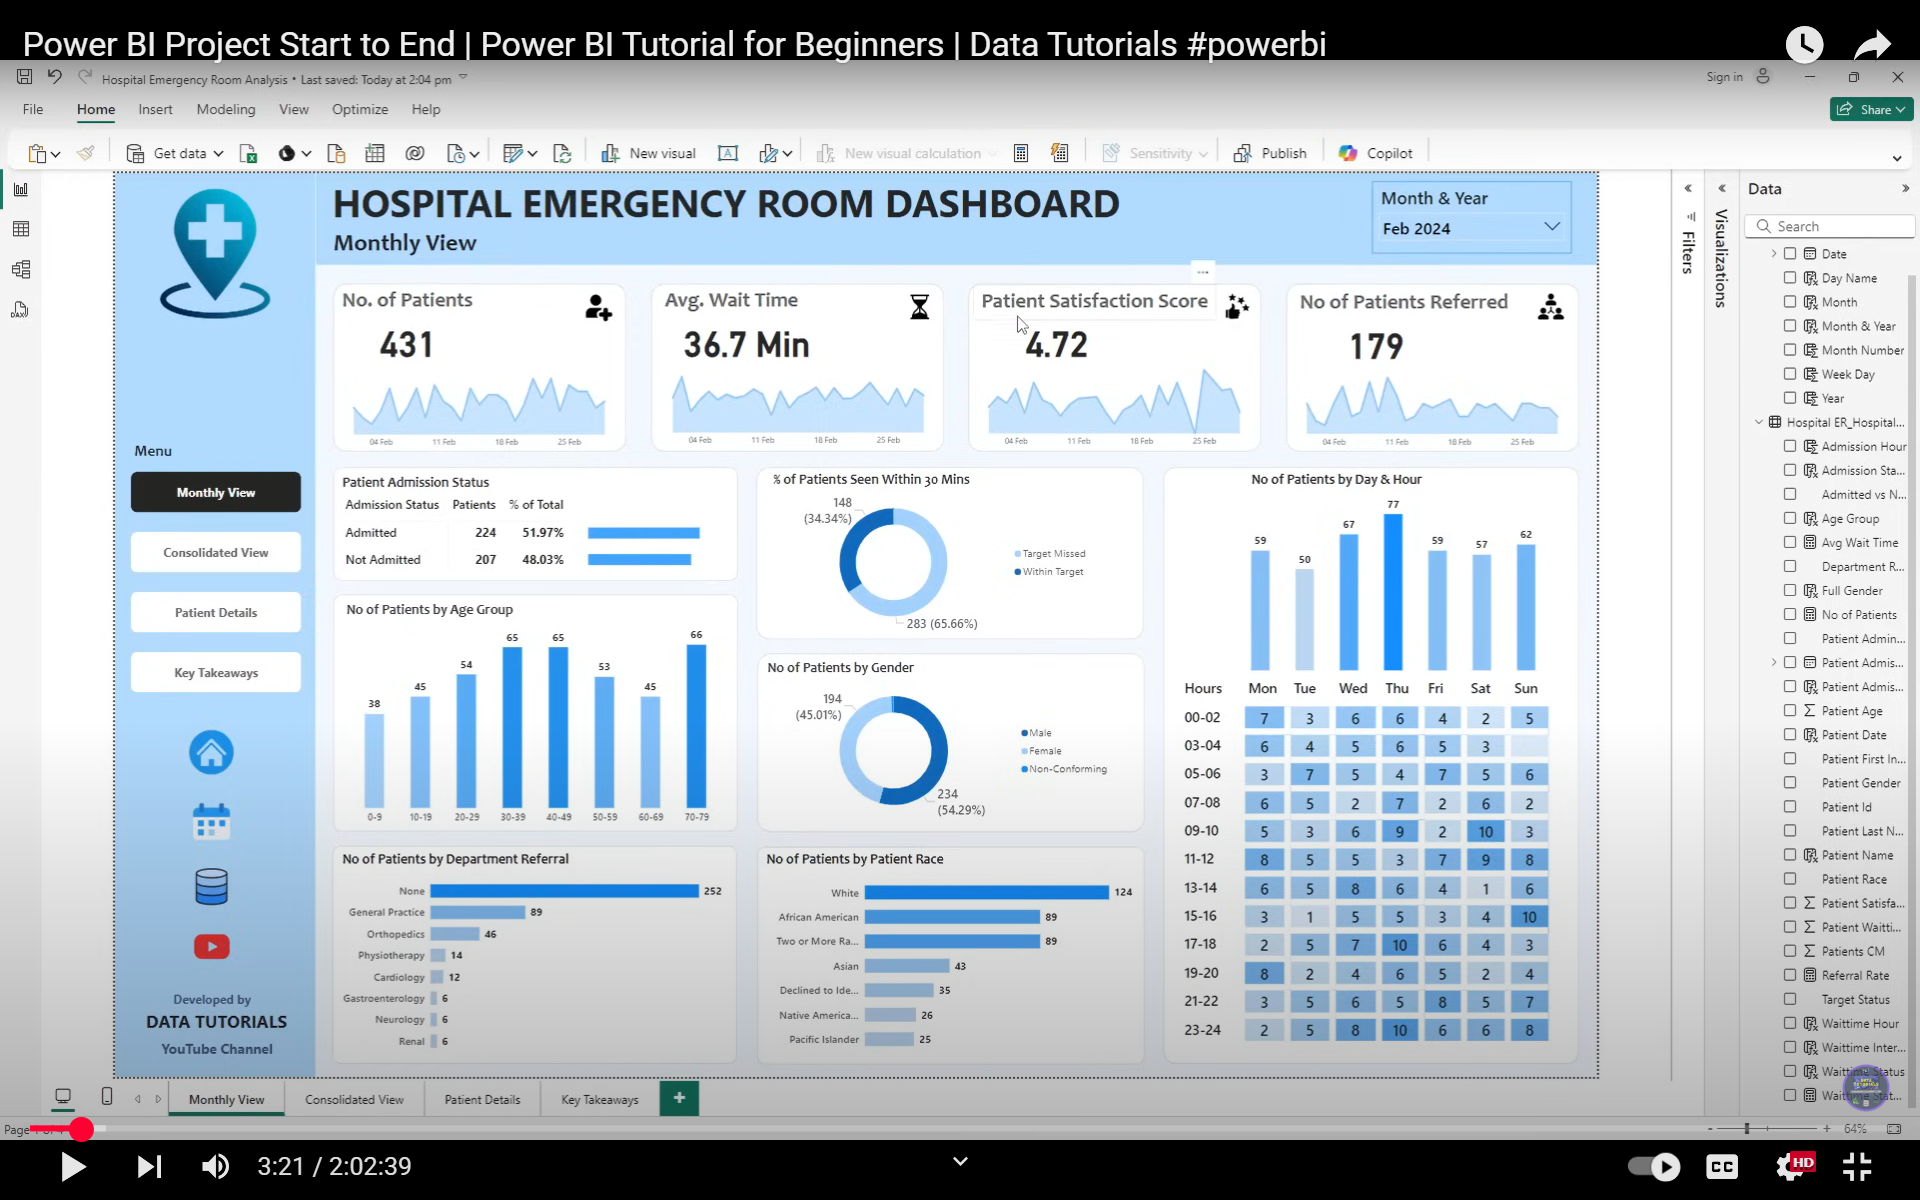

The dashboard page shown, as its layout file describes it:
{"tool":"powerbi","page":{"name":"monthly view","canvas":[2451,1400],"ordinal":0},"visuals":[{"type":"shape","box":[1934.3,158.7,506,259.6],"z":0},{"type":"shape","box":[355.7,165.2,516.4,257.5],"z":0,"group":"g4"},{"type":"shape","box":[1705,449.8,736,938.4],"z":0,"group":"g5"},{"type":"shape","box":[883.6,167.5,505,259.7],"z":1000,"group":"g3"},{"type":"group","id":"g1","title":"Group 5","box":[1719.6,485,710,867.8],"z":1000,"group":"g5"},{"type":"shape","box":[342.4,636.3,631.2,368],"z":1000},{"type":"card","fields":{"Values":["Hospital ER_Data.No of patients referred"]},"box":[1954.1,189.3,120.8,112.4],"z":2000},{"type":"card","fields":{"Values":["Hospital ER_Data.Avg wait Time"]},"box":[930.9,232.4,247.4,70.1],"z":3000,"group":"g3"},{"type":"clusteredColumnChart","fields":{"Category":["Hospital ER_Data.Age Group"],"Y":["Hospital ER_Data.No of patients"]},"box":[355.2,646.6,585.2,357.8],"z":3000},{"type":"areaChart","fields":{"Category":["Data Table.Date.Variation.Date Hierarchy.Day"],"Y":["Hospital ER_Data.No of patients referred"]},"box":[1936.6,279,491.8,132.6],"z":4000},{"type":"areaChart","fields":{"Category":["Data Table.Date.Variation.Date Hierarchy.Day"],"Y":["Avg(Hospital ER_Data.Patient Waittime)"]},"box":[897.4,300.1,480.7,116],"z":4000,"group":"g3"},{"type":"shape","box":[337.3,1019.7,631.2,368],"z":5000},{"type":"textbox","box":[1906.4,166.3,488.8,66.6],"z":6000},{"type":"textbox","box":[911.4,180.5,333.6,57.1],"z":6000,"group":"g3"},{"type":"card","fields":{"Values":["Hospital ER_Data.No of patients"]},"box":[374.8,212.7,181,81.3],"z":7000,"group":"g4"},{"type":"shape","box":[1080,446,600,270],"z":7000},{"type":"areaChart","fields":{"Category":["Data Table.Date.Variation.Date Hierarchy.Day"],"Y":["Hospital ER_Data.No of patients"]},"box":[363.2,288.6,500.3,135.4],"z":8000,"group":"g4"},{"type":"donutChart","title":"% of patients seen within 30 mints","fields":{"Y":["Hospital ER_Data.No of patients"],"Category":["Hospital ER_Data.waittimestatus"]},"box":[1097.4,463.2,565.8,236.8],"z":8000},{"type":"textbox","box":[369.5,169.4,323.6,59.3],"z":9000,"group":"g4"},{"type":"clusteredBarChart","fields":{"Category":["Hospital ER_Data.Department Referral"],"Y":["Hospital ER_Data.No of patients"]},"box":[342.2,1047.4,598.9,311.1],"z":9000},{"type":"shape","box":[1408.1,166.6,501,259.2],"z":10000,"group":"g2"},{"type":"shape","box":[327.1,444.7,741.1,173.8],"z":10000},{"type":"pivotTable","fields":{"Rows":["Hospital ER_Data.Waittime Interval"],"Columns":["Data Table.Day name"],"Values":["Hospital ER_Data.No of patients"]},"box":[1719.6,739.9,705.3,612.8],"z":10500,"group":"g1"},{"type":"columnChart","title":"No of patients by Day and Hour","fields":{"Category":["Data Table.Day name"],"Y":["Hospital ER_Data.No of patients"]},"box":[1733.4,485,696.2,251.4],"z":10750,"group":"g1"},{"type":"shape","box":[0,0,335,1399.8],"z":11000},{"type":"card","fields":{"Values":["Hospital ER_Data.satisfaction score"]},"box":[1448.2,219.8,208.5,83.8],"z":11000,"group":"g2"},{"type":"shape","box":[329.1,0,2103.7,139],"z":12000},{"type":"areaChart","fields":{"Category":["Data Table.Date.Variation.Date Hierarchy.Day"],"Y":["Hospital ER_Data.satisfaction score"]},"box":[1417.1,288.7,498,112.5],"z":12000,"group":"g2"},{"type":"slicer","fields":{"Values":["Data Table.year"]},"box":[1892.1,13.2,178.9,113.2],"z":13000},{"type":"slicer","fields":{"Values":["Data Table.month Name"]},"box":[2123.7,18.4,271.1,113.2],"z":14000},{"type":"textbox","box":[355.3,73.7,276.3,57.9],"z":15000},{"type":"textbox","box":[342.1,0,1031.6,63.2],"z":16000},{"type":"shape","box":[1072,730,604,290],"z":16000,"group":"g6"},{"type":"card","fields":{"Values":["Min(Data Table.month &year)"]},"box":[689.5,76.3,213.2,50],"z":17000},{"type":"donutChart","title":"No of patient by gender","fields":{"Y":["Hospital ER_Data.No of patients"],"Category":["Hospital ER_Data.Patient Gender"]},"box":[1105.7,780.9,565.2,237],"z":17000,"group":"g6"},{"type":"pivotTable","title":"Patient Admission Status","fields":{"Rows":["Hospital ER_Data.Admission status"],"Values":["Hospital ER_Data.No of patients","Hospital ER_Data.No of patients1"]},"box":[342.4,462.6,434.4,150.8],"z":18000},{"type":"barChart","fields":{"Category":["Hospital ER_Data.Admission status"],"Y":["Hospital ER_Data.No of patients"]},"box":[776.9,521.3,288.8,92],"z":19000},{"type":"shape","box":[1054,1048,628,338],"z":20000},{"type":"clusteredBarChart","fields":{"Y":["Hospital ER_Data.No of patients"],"Category":["Hospital ER_Data.Patient Race"]},"box":[1093.5,1047.8,567.4,339.1],"z":21000},{"type":"group","id":"g2","title":"Group 2","box":[1376.6,166.6,538.5,259.2],"z":22000},{"type":"group","id":"g3","title":"Group 3","box":[883.6,167.5,505,259.7],"z":23000},{"type":"group","id":"g4","title":"Group 4","box":[355.7,165.2,516.4,258.8],"z":24000},{"type":"image","box":[789.5,169.8,71.1,59.7],"z":25000},{"type":"textbox","box":[1376.6,171.2,502.6,55.1],"z":25000,"group":"g2"},{"type":"image","box":[1315,176.7,64.3,59.7],"z":26000},{"type":"image","box":[1824.5,172.1,78,59.7],"z":27000},{"type":"image","box":[2359.2,169.8,75.7,59.7],"z":28000},{"type":"image","box":[32.1,13.8,273.1,387.8],"z":29000},{"type":"pageNavigator","box":[6.1,437.5,323,527.5],"z":30000},{"type":"group","id":"g5","title":"Group 6","box":[1705,449.8,736,938.4],"z":31000},{"type":"group","id":"g6","title":"Group 7","box":[1072,730,604,290],"z":32000}]}

Visuals, with their boxes on the page's 2451x1400 design canvas (x1, y1, x2, y2). These are canvas units, not pixel positions in the 1920x1200 screenshot, which may show the page scaled, cropped or inside an application window:
shape: {"x1": 1934, "y1": 159, "x2": 2440, "y2": 418}
shape: {"x1": 356, "y1": 165, "x2": 872, "y2": 423}
shape: {"x1": 1705, "y1": 450, "x2": 2441, "y2": 1388}
shape: {"x1": 884, "y1": 168, "x2": 1389, "y2": 427}
"Group 5" group: {"x1": 1720, "y1": 485, "x2": 2430, "y2": 1353}
shape: {"x1": 342, "y1": 636, "x2": 974, "y2": 1004}
card - Hospital ER_Data.No of patients referred: {"x1": 1954, "y1": 189, "x2": 2075, "y2": 302}
card - Hospital ER_Data.Avg wait Time: {"x1": 931, "y1": 232, "x2": 1178, "y2": 302}
clusteredColumnChart - Hospital ER_Data.Age Group x Hospital ER_Data.No of patients: {"x1": 355, "y1": 647, "x2": 940, "y2": 1004}
areaChart - Data Table.Date.Variation.Date Hierarchy.Day x Hospital ER_Data.No of patients referred: {"x1": 1937, "y1": 279, "x2": 2428, "y2": 412}
areaChart - Data Table.Date.Variation.Date Hierarchy.Day x Avg(Hospital ER_Data.Patient Waittime): {"x1": 897, "y1": 300, "x2": 1378, "y2": 416}
shape: {"x1": 337, "y1": 1020, "x2": 968, "y2": 1388}
textbox: {"x1": 1906, "y1": 166, "x2": 2395, "y2": 233}
textbox: {"x1": 911, "y1": 180, "x2": 1245, "y2": 238}
card - Hospital ER_Data.No of patients: {"x1": 375, "y1": 213, "x2": 556, "y2": 294}
shape: {"x1": 1080, "y1": 446, "x2": 1680, "y2": 716}
areaChart - Data Table.Date.Variation.Date Hierarchy.Day x Hospital ER_Data.No of patients: {"x1": 363, "y1": 289, "x2": 864, "y2": 424}
"% of patients seen within 30 mints" donutChart: {"x1": 1097, "y1": 463, "x2": 1663, "y2": 700}
textbox: {"x1": 370, "y1": 169, "x2": 693, "y2": 229}
clusteredBarChart - Hospital ER_Data.Department Referral x Hospital ER_Data.No of patients: {"x1": 342, "y1": 1047, "x2": 941, "y2": 1358}
shape: {"x1": 1408, "y1": 167, "x2": 1909, "y2": 426}
shape: {"x1": 327, "y1": 445, "x2": 1068, "y2": 618}
pivotTable - Hospital ER_Data.Waittime Interval x Data Table.Day name: {"x1": 1720, "y1": 740, "x2": 2425, "y2": 1353}
"No of patients by Day and Hour" columnChart: {"x1": 1733, "y1": 485, "x2": 2430, "y2": 736}
shape: {"x1": 0, "y1": 0, "x2": 335, "y2": 1400}
card - Hospital ER_Data.satisfaction score: {"x1": 1448, "y1": 220, "x2": 1657, "y2": 304}
shape: {"x1": 329, "y1": 0, "x2": 2433, "y2": 139}
areaChart - Data Table.Date.Variation.Date Hierarchy.Day x Hospital ER_Data.satisfaction score: {"x1": 1417, "y1": 289, "x2": 1915, "y2": 401}
slicer - Data Table.year: {"x1": 1892, "y1": 13, "x2": 2071, "y2": 126}
slicer - Data Table.month Name: {"x1": 2124, "y1": 18, "x2": 2395, "y2": 132}
textbox: {"x1": 355, "y1": 74, "x2": 632, "y2": 132}
textbox: {"x1": 342, "y1": 0, "x2": 1374, "y2": 63}
shape: {"x1": 1072, "y1": 730, "x2": 1676, "y2": 1020}
card - Min(Data Table.month &year): {"x1": 690, "y1": 76, "x2": 903, "y2": 126}
"No of patient by gender" donutChart: {"x1": 1106, "y1": 781, "x2": 1671, "y2": 1018}
"Patient Admission Status" pivotTable: {"x1": 342, "y1": 463, "x2": 777, "y2": 613}
barChart - Hospital ER_Data.Admission status x Hospital ER_Data.No of patients: {"x1": 777, "y1": 521, "x2": 1066, "y2": 613}
shape: {"x1": 1054, "y1": 1048, "x2": 1682, "y2": 1386}
clusteredBarChart - Hospital ER_Data.No of patients x Hospital ER_Data.Patient Race: {"x1": 1094, "y1": 1048, "x2": 1661, "y2": 1387}
"Group 2" group: {"x1": 1377, "y1": 167, "x2": 1915, "y2": 426}
"Group 3" group: {"x1": 884, "y1": 168, "x2": 1389, "y2": 427}
"Group 4" group: {"x1": 356, "y1": 165, "x2": 872, "y2": 424}
image: {"x1": 790, "y1": 170, "x2": 861, "y2": 230}
textbox: {"x1": 1377, "y1": 171, "x2": 1879, "y2": 226}
image: {"x1": 1315, "y1": 177, "x2": 1379, "y2": 236}
image: {"x1": 1824, "y1": 172, "x2": 1902, "y2": 232}
image: {"x1": 2359, "y1": 170, "x2": 2435, "y2": 230}
image: {"x1": 32, "y1": 14, "x2": 305, "y2": 402}
pageNavigator: {"x1": 6, "y1": 438, "x2": 329, "y2": 965}
"Group 6" group: {"x1": 1705, "y1": 450, "x2": 2441, "y2": 1388}
"Group 7" group: {"x1": 1072, "y1": 730, "x2": 1676, "y2": 1020}
